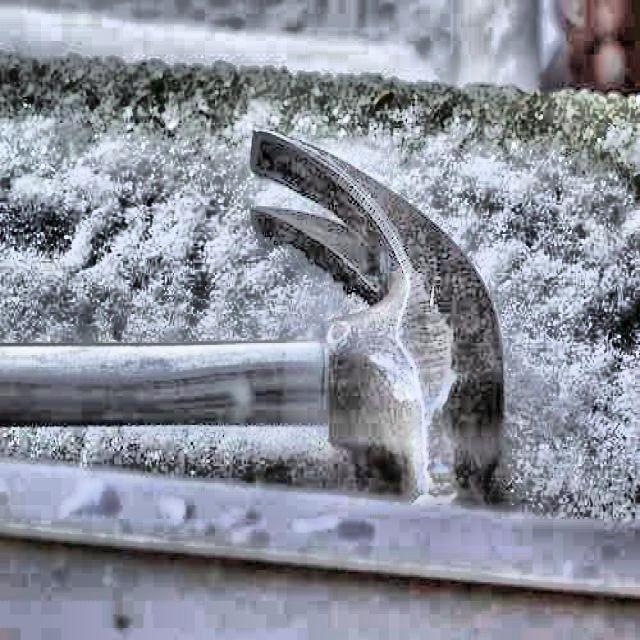hammer: (4, 122, 506, 510)
